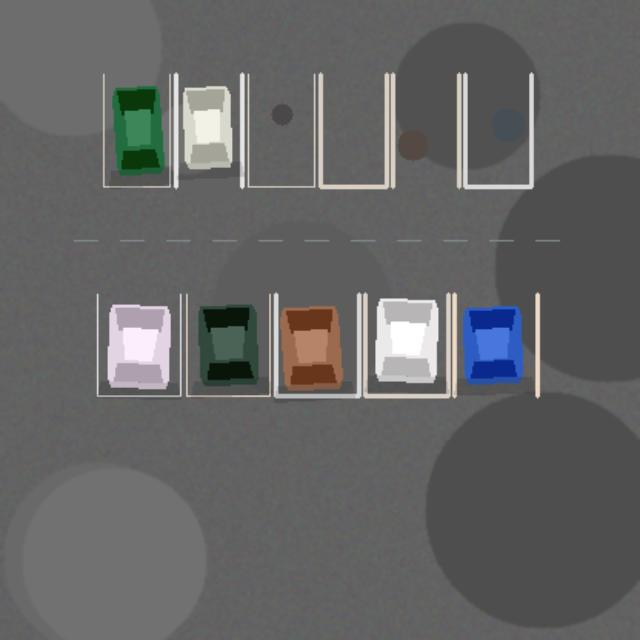space-empty: (248, 74, 314, 186), (320, 74, 386, 186), (392, 74, 458, 186), (465, 74, 531, 186)
space-occupied: (97, 294, 180, 395), (186, 294, 269, 395), (275, 294, 358, 395), (365, 294, 448, 395), (454, 294, 537, 395), (175, 74, 242, 186), (103, 74, 169, 186)
